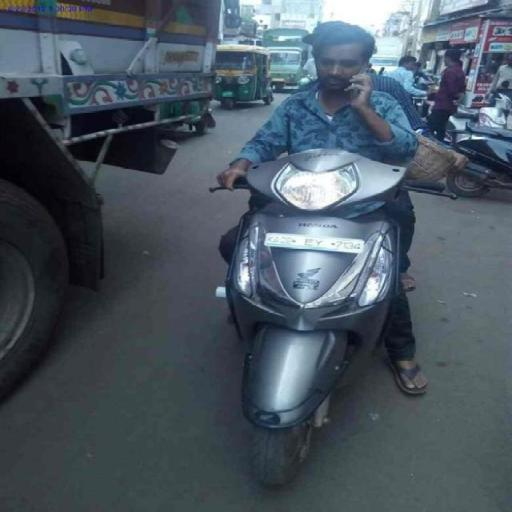using mobile: (354, 64, 372, 116)
